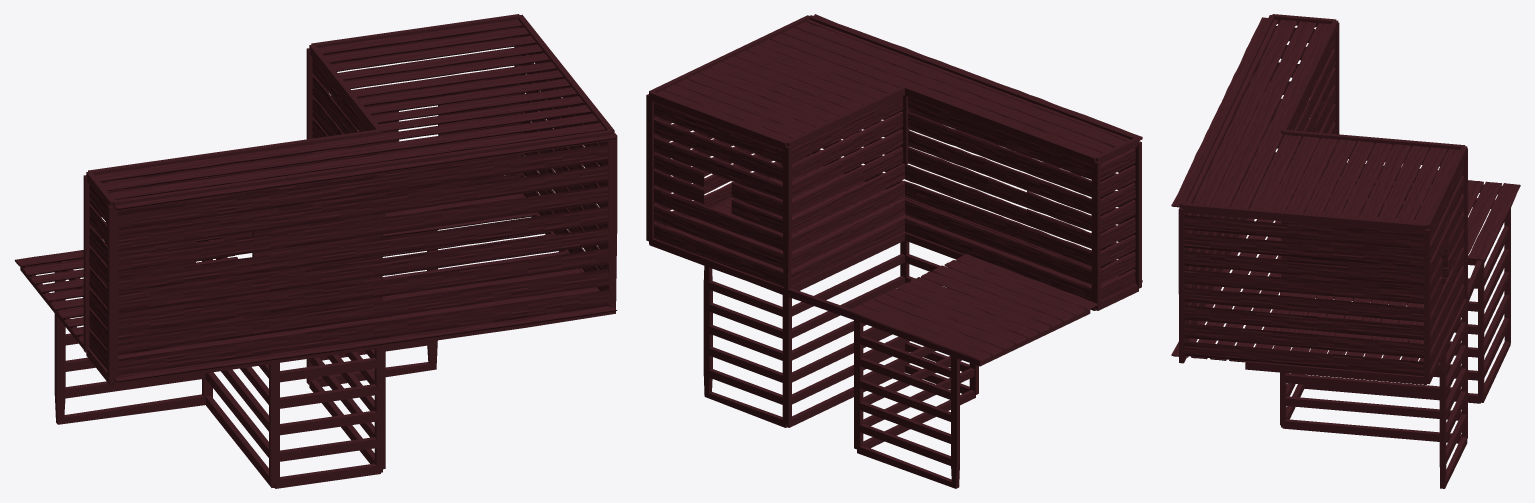
The model's file is level_one_shack_one.fbx.
3 views of the same model, side by side, from view 1: azimuth 30°, elevation 25°; view 2: azimuth 150°, elevation 25°; view 3: azimuth 270°, elevation 25° (orthographic). The views are drawn at different scales.
Visible parts, largest first — view 1: Shack01; view 2: Shack01; view 3: Shack01.
Part boxes in pixels (x1,y1,x2,y2): Shack01: (14,14,617,488); Shack01: (646,14,1142,488); Shack01: (1171,14,1520,488).
Size of the model in its own units: 2091 by 3025 by 1959.
